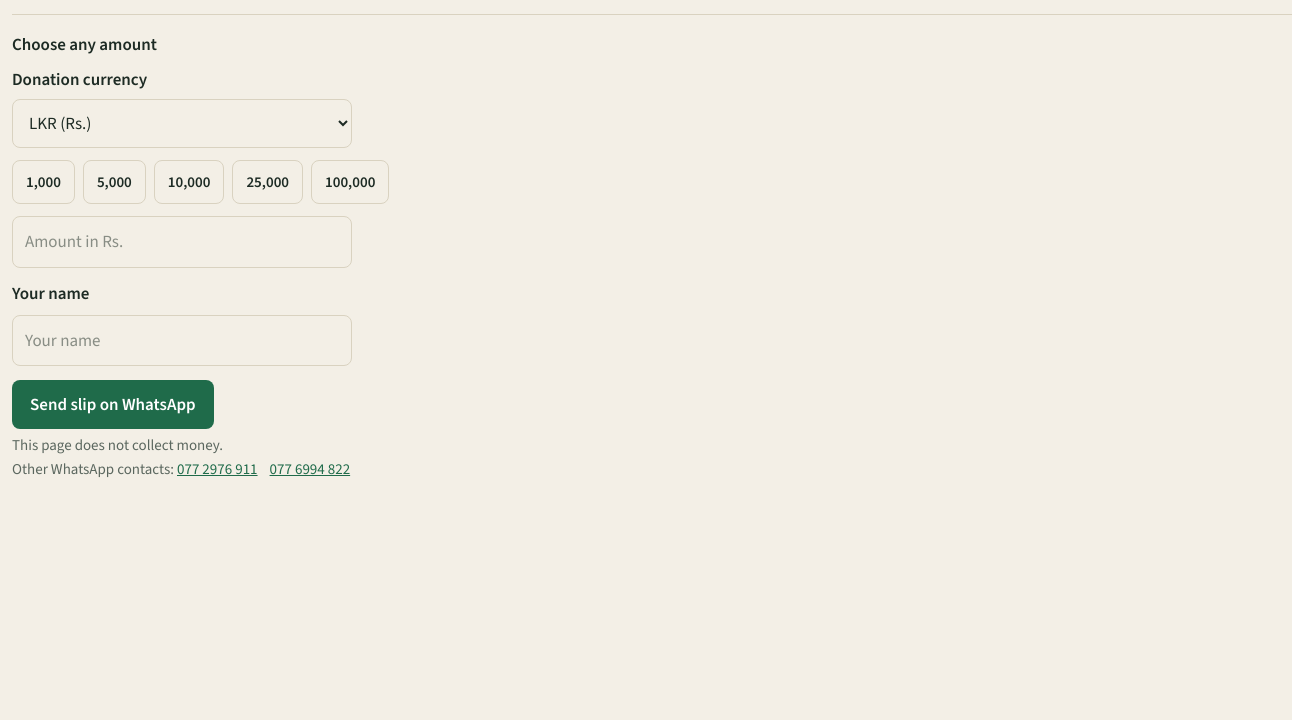
Test: DonationForm › previews a live conversion and records the foreign declaration
Later steps or results of the test are not shown.
Select "USD ($)" in the dropdown labelled "Donation currency" at point(182, 124), box left=12, top=99, right=352, bottom=148
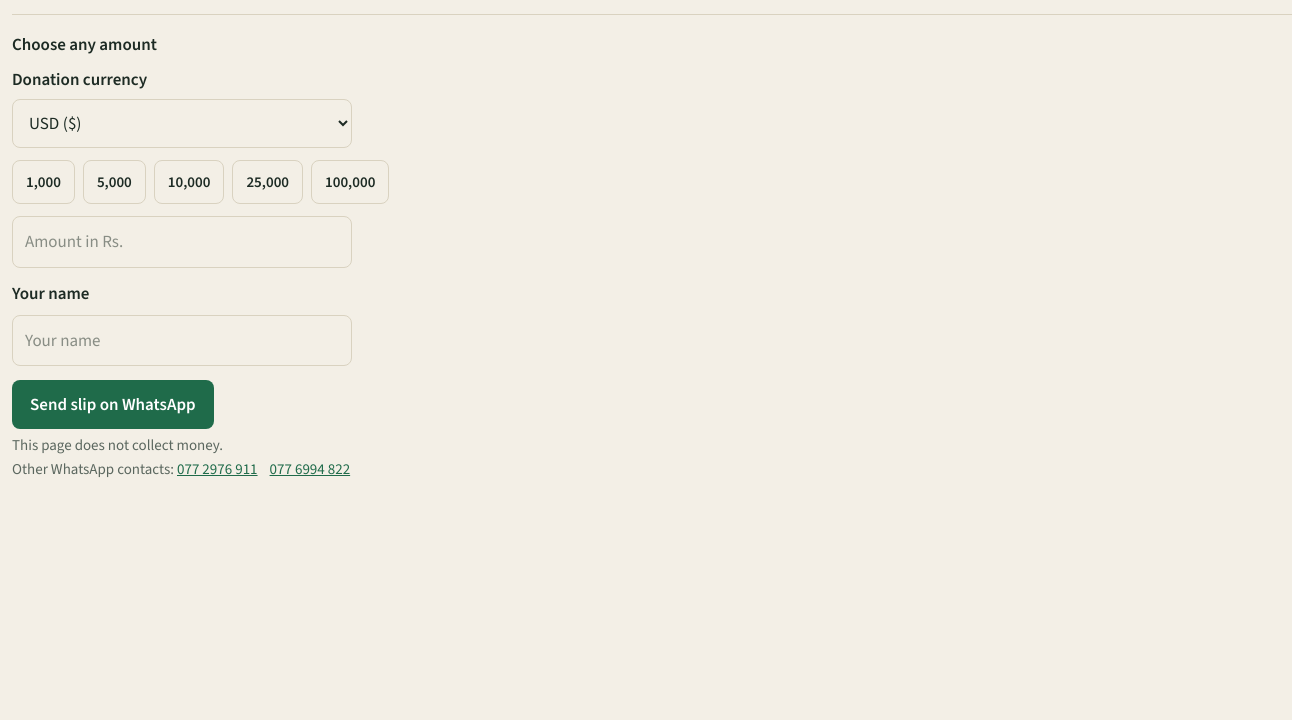
Type "10" into the number field labelled "Choose any amount".
click(182, 242); type("10")  # box left=12, top=216, right=352, bottom=268
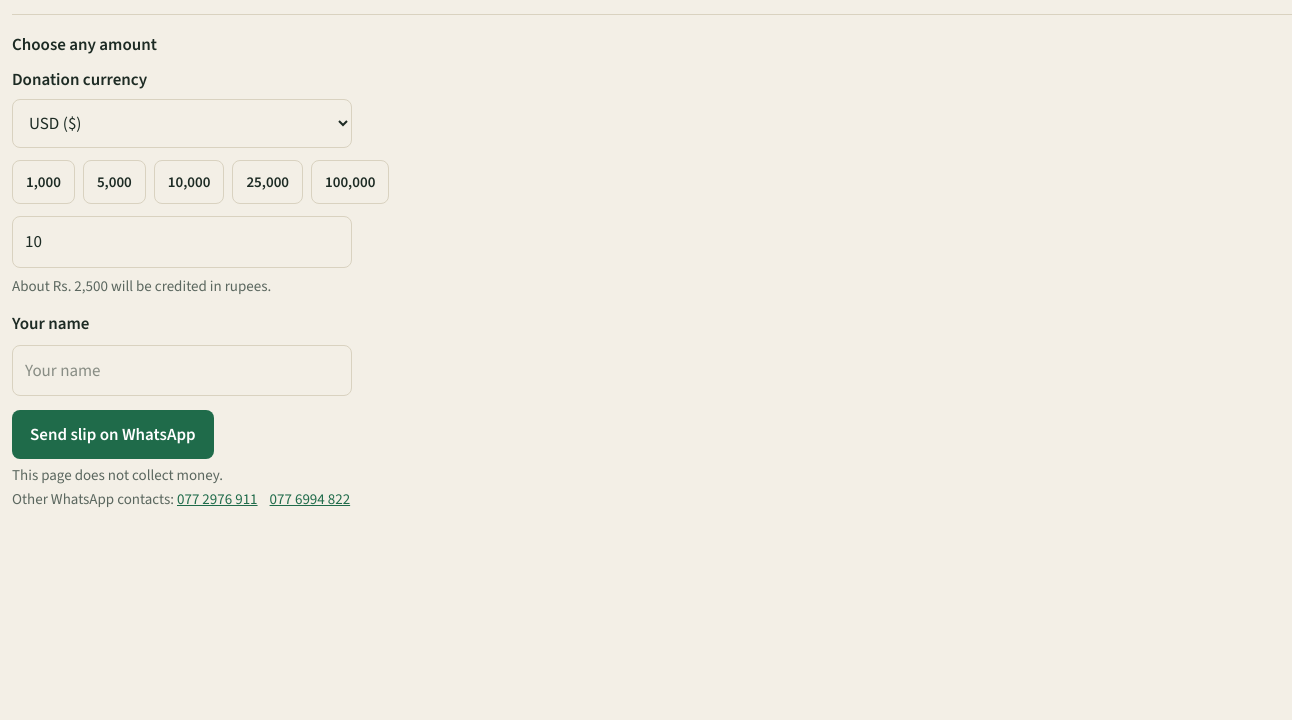
expect the text "About Rs. 2,500 will be credited in rupees." is shown: met, box left=12, top=276, right=271, bottom=296
